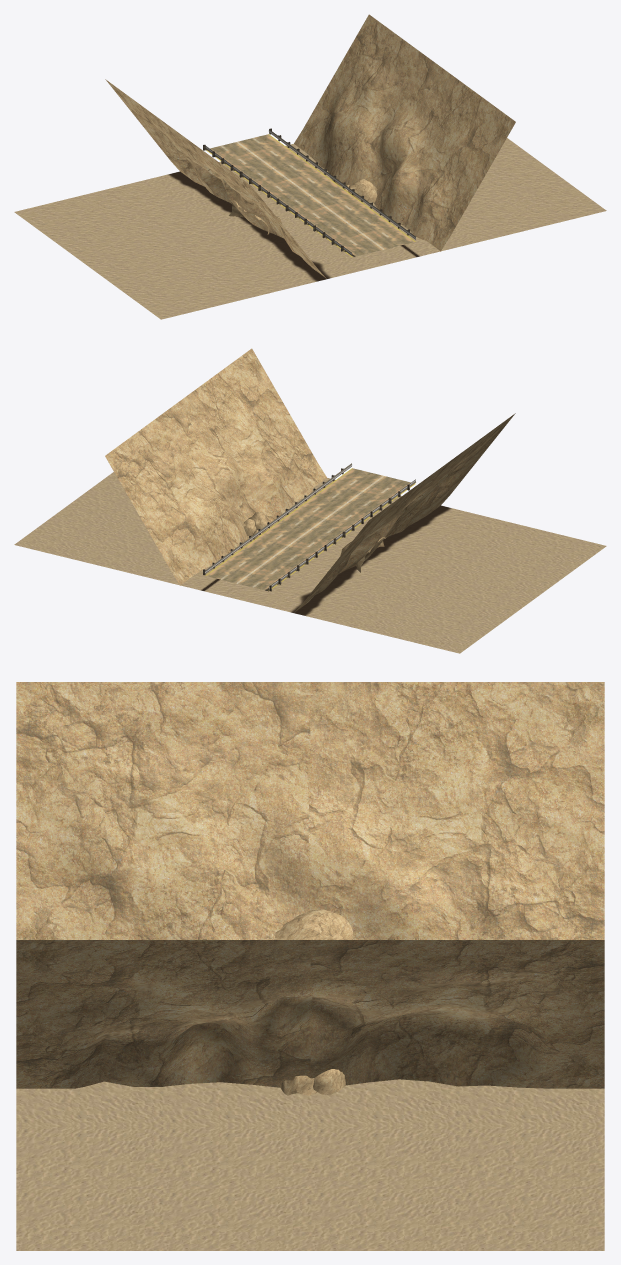
3 views of the same model, one above another, from view 1: azimuth 30°, elevation 25°; view 2: azimuth 150°, elevation 25°; view 3: azimuth 270°, elevation 25° (orthographic). The views are drawn at different scales.
Visible parts, largest first — view 1: scene6, wall, road; view 2: scene6, wall, road; view 3: wall, scene6.
Part boxes in pixels (x1,y1,x2,y2): scene6: (14,138,606,319); wall: (105,14,515,278); road: (203,128,415,257); scene6: (14,472,606,653); wall: (105,348,515,612); road: (203,463,415,591); wall: (16,682,604,1095); scene6: (16,1079,604,1250).
Size of the model in its own units: 140 by 33.69 by 80.
